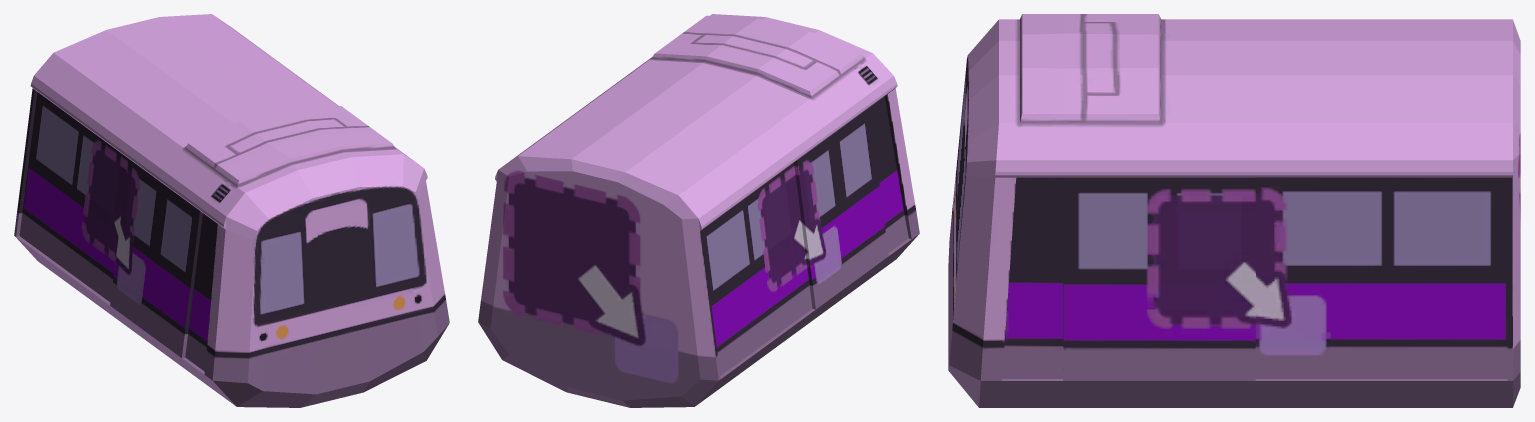
The model's file is MovingPlatformMRT_PurpleShrink.fbx.
3 renders of one model, left to right at view 1: azimuth 30°, elevation 25°; view 2: azimuth 150°, elevation 25°; view 3: azimuth 270°, elevation 25°, orthographic. The views are drawn at different scales.
Parts seen in each view (by area): view 1: Cube.016; view 2: Cube.016; view 3: Cube.016.
Part boxes in pixels (<box>): Cube.016: <box>14,14,449,407</box>; Cube.016: <box>478,14,919,407</box>; Cube.016: <box>948,14,1520,407</box>.
Bounding box in the file's own units: 276 × 263 × 430.
